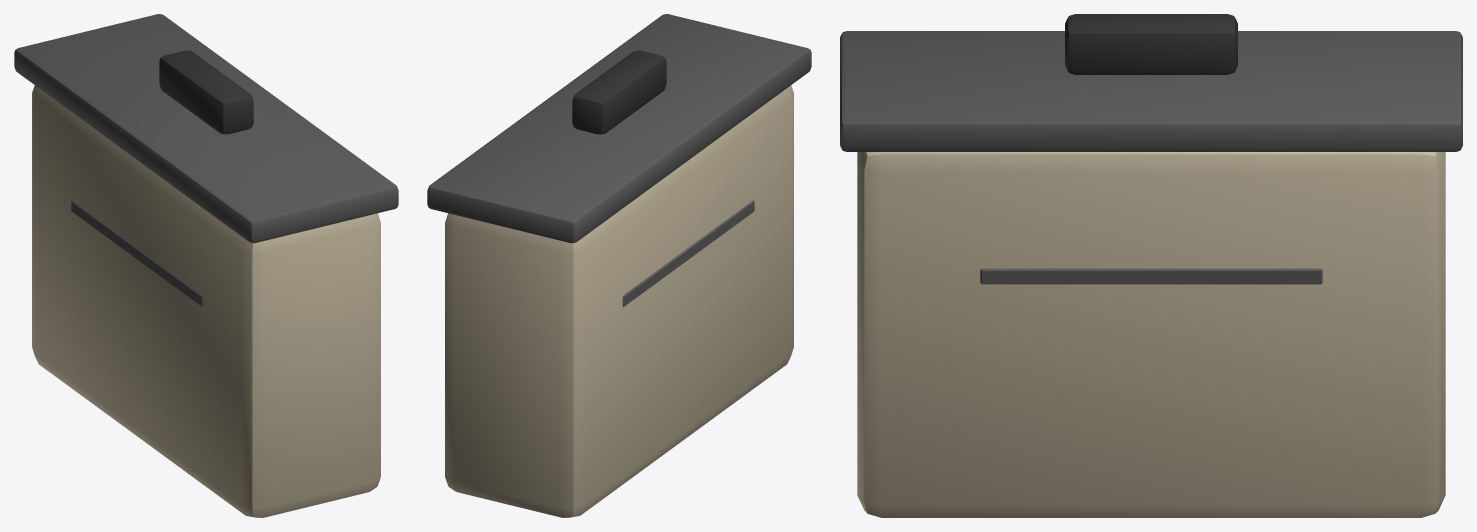
The model's file is robotcase.glb.
3 views of the same model, side by side, from view 1: azimuth 30°, elevation 25°; view 2: azimuth 150°, elevation 25°; view 3: azimuth 270°, elevation 25° (orthographic). The views are drawn at different scales.
Parts seen in each view (by area): view 1: Body; view 2: Body; view 3: Body.
Boxes of the visible parts, left/top/right/bottom form: Body: left=14, top=14, right=398, bottom=517; Body: left=427, top=14, right=811, bottom=517; Body: left=840, top=14, right=1462, bottom=517.
Size of the model in its own units: 0.13 by 0.295 by 0.36.
